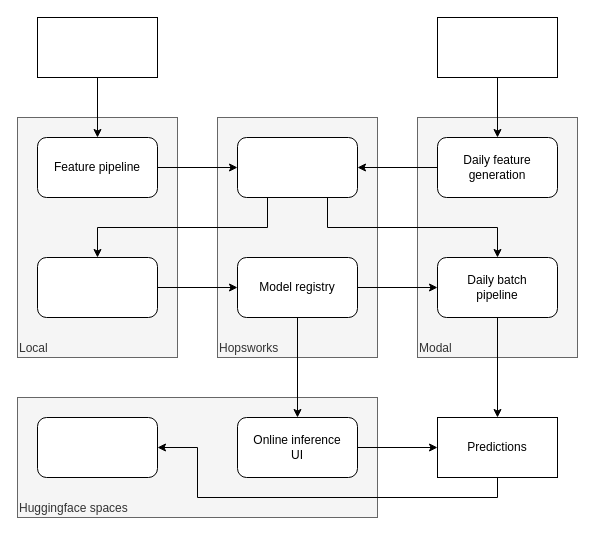
The diagram is 595 pixels wide and 535 high, and some of its shapes have lost their labels. The shapes that lost their labels are listed below. From the top down, each one's centre as x and y in pixels, then its label:
At (97,47): "Historic data (demand, weather)".
At (497,47): "Online data (demand, weather)".
At (297,167): "Feature store".
At (97,287): "Training pipeline".
At (97,447): "Monitoring UI".
